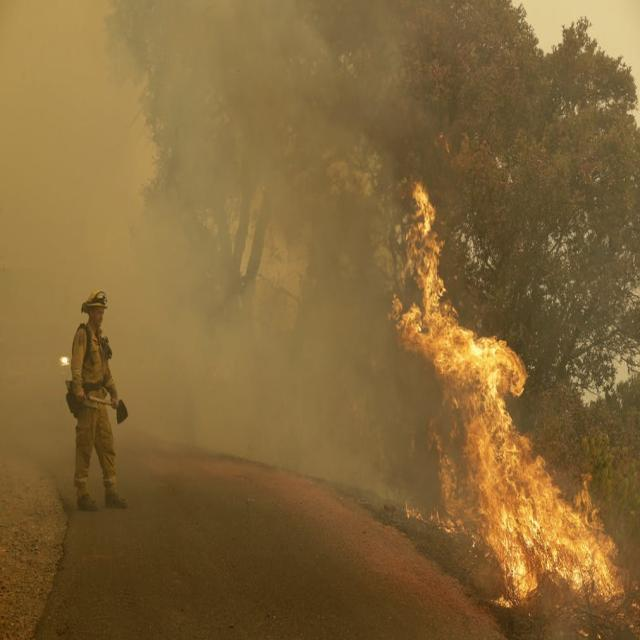Fire: (438, 334, 518, 551), (520, 497, 608, 597), (400, 224, 452, 332)
Smoke: (16, 51, 108, 288)
